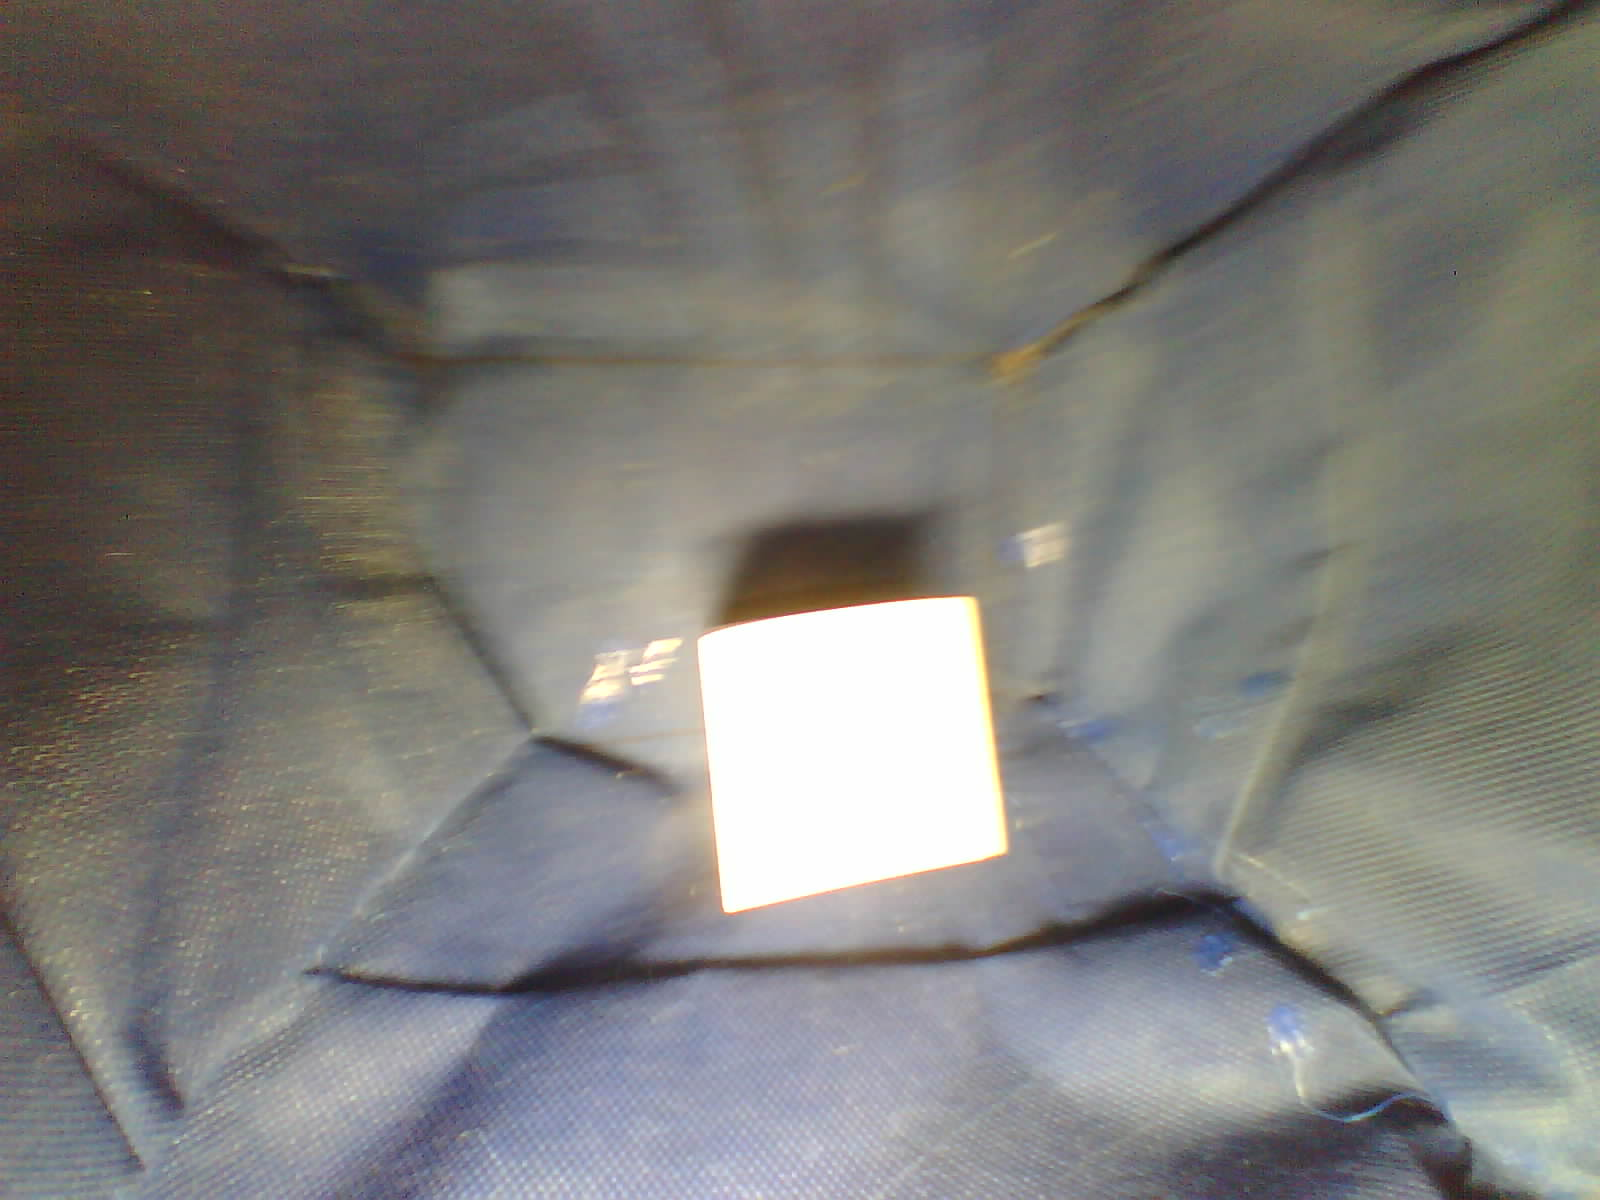cube-hard: (664, 567, 1032, 938)
